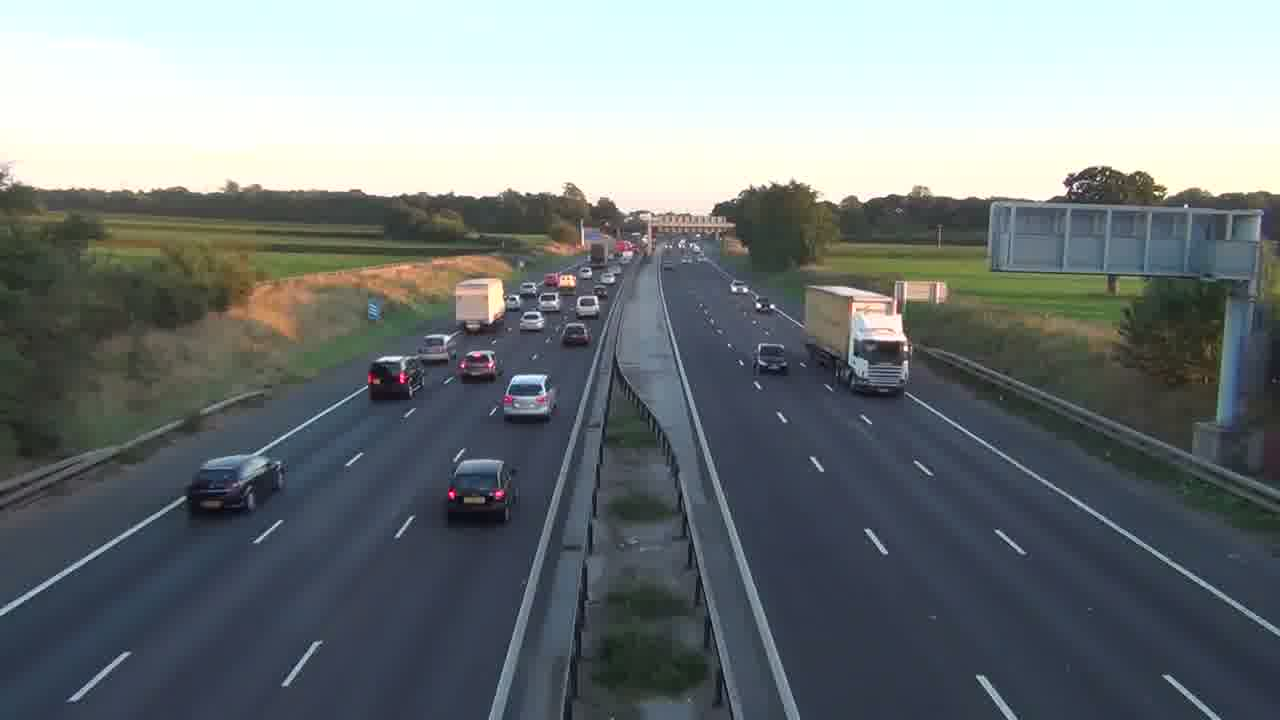car: (186, 454, 288, 513), (444, 458, 519, 523), (501, 372, 560, 423), (456, 349, 499, 382), (560, 321, 593, 347), (519, 309, 545, 332)
truck: (803, 285, 911, 396), (803, 284, 899, 364), (186, 454, 288, 513)
